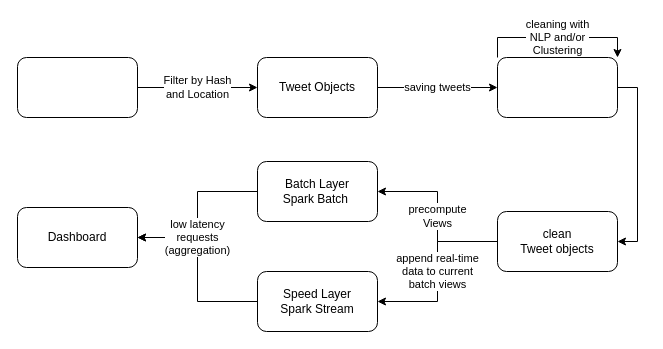
Image size: 663x349. Some labels were removed from this diagram. The shapes that lost their labels are listed below. From the top down, each one's centre as x and y in pixels, then its label:
At pixel 77 87: "Twitter API".
At pixel 557 87: "data lake".
